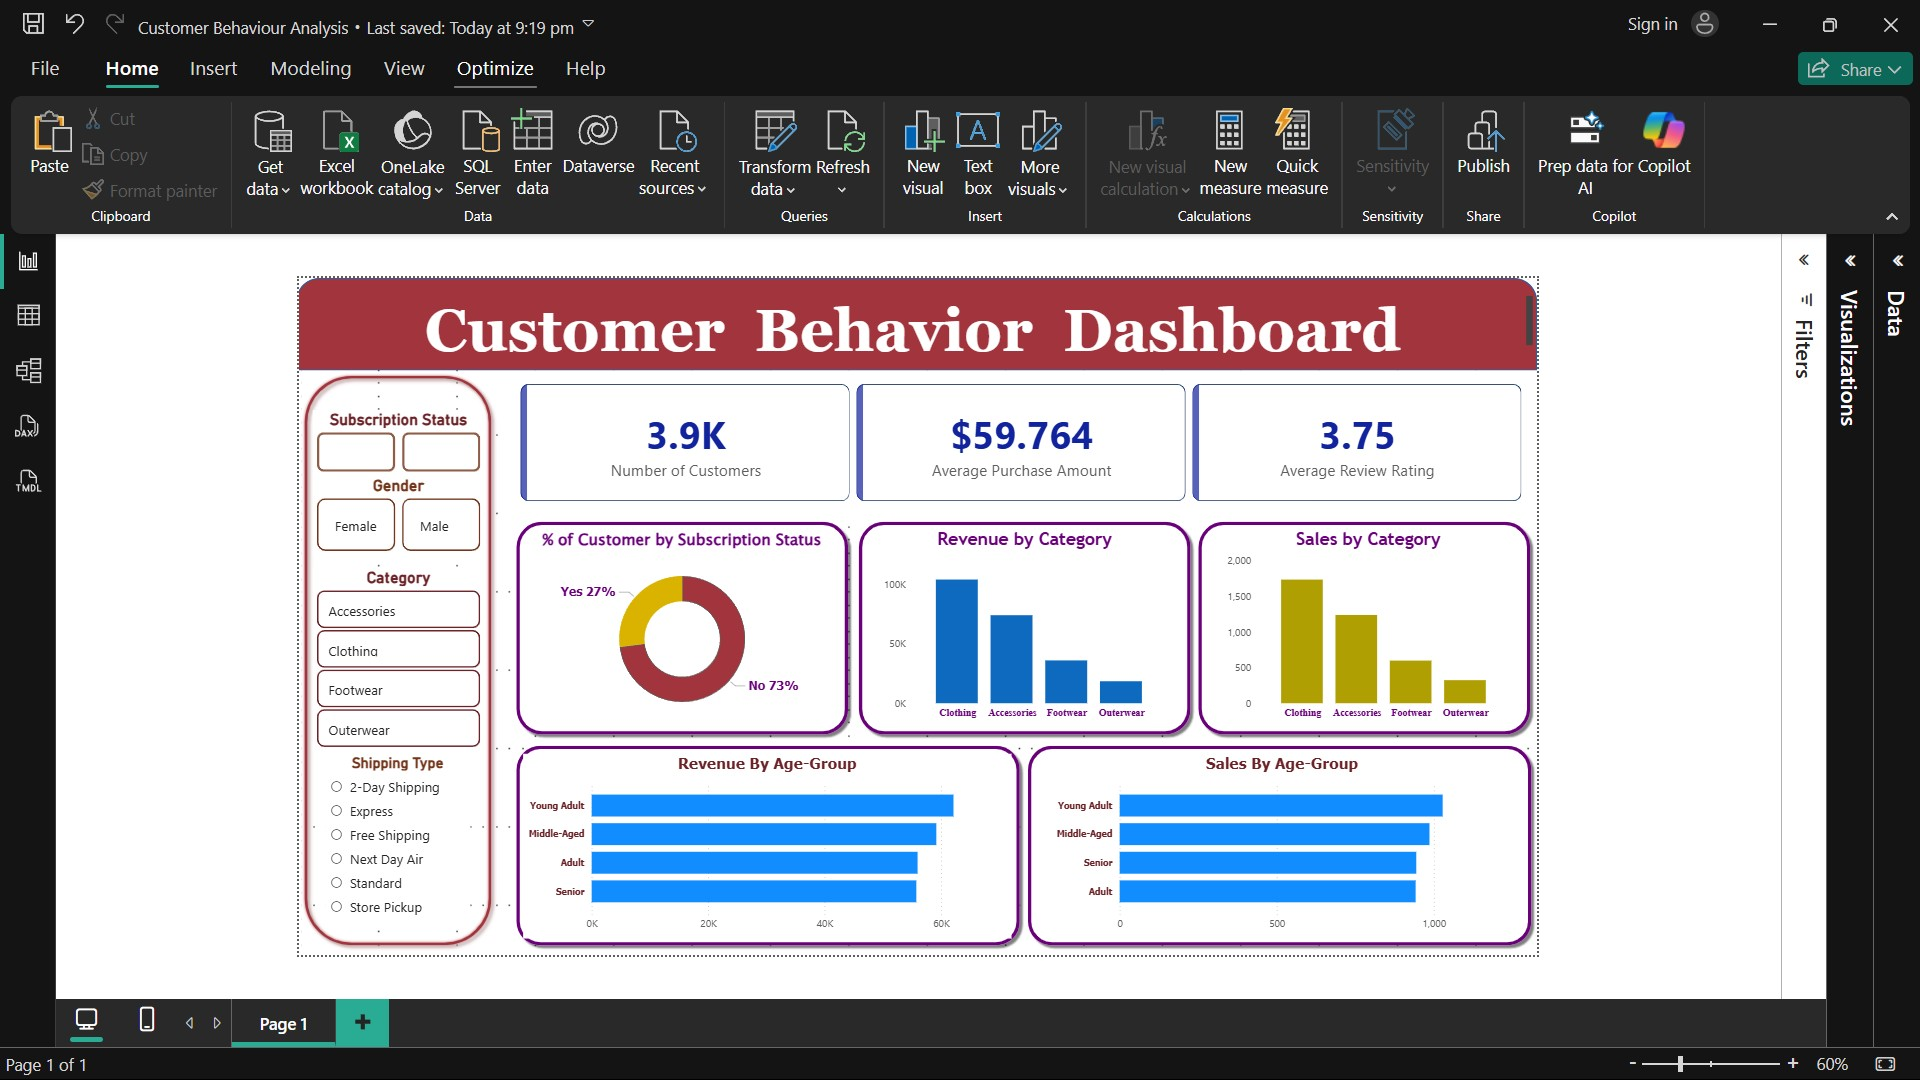

The dashboard page shown, as its layout file describes it:
{"tool":"powerbi","page":{"name":"Page 1","canvas":[1500,820],"ordinal":0},"visuals":[{"type":"cardVisual","fields":{"Data":["public customer.Number of Customers","public customer.Average Purchase Amount","public customer.Average Review Rating"]},"box":[252,112,1248,176],"z":0},{"type":"shape","box":[-4,0,1504,112],"z":1000},{"type":"textbox","box":[-4,16,1504,80],"z":2000},{"type":"shape","box":[256,288,416,272],"z":3000},{"type":"donutChart","title":"% of Customer by Subscription Status","fields":{"Category":["public customer.subscription_status"],"Y":["CountNonNull(public customer.customer_id)"]},"box":[288,304,352,240],"z":4000},{"type":"shape","box":[1084,288,416,272],"z":5000},{"type":"shape","box":[672,288,416,272],"z":6000},{"type":"clusteredColumnChart","title":"Revenue by Category","fields":{"Y":["Sum(public customer.purchase_amount)"],"Category":["public customer.category"]},"box":[704,304,352,240],"z":7000},{"type":"clusteredColumnChart","title":"Sales by Category","fields":{"Y":["CountNonNull(public customer.customer_id)"],"Category":["public customer.category"]},"box":[1120,304,352,240],"z":8000},{"type":"shape","box":[0,112,240,704],"z":9000},{"type":"advancedSlicerVisual","title":"Subscription Status","fields":{"Values":["public customer.subscription_status"]},"box":[16,160,208,80],"z":10000},{"type":"advancedSlicerVisual","title":"Gender","fields":{"Values":["public customer.gender"]},"box":[16,240,208,96],"z":11000},{"type":"advancedSlicerVisual","title":"Category","fields":{"Values":["public customer.category"]},"box":[16,352,208,224],"z":12000},{"type":"listSlicer","title":"Shipping Type","fields":{"Values":["public customer.shipping_type"]},"box":[32,576,176,208],"z":13000},{"type":"clusteredBarChart","title":"Sales By Age-Group","fields":{"Y":["CountNonNull(public customer.customer_id)"],"Category":["public customer.age_group"]},"box":[912,576,560,224],"z":14000},{"type":"shape","box":[256,560,624,256],"z":15000},{"type":"shape","box":[876,560,624,256],"z":16000},{"type":"clusteredBarChart","title":"Revenue By Age-Group","fields":{"Y":["Sum(public customer.purchase_amount)"],"Category":["public customer.age_group"]},"box":[272,576,592,224],"z":17000},{"type":"clusteredBarChart","title":"Sales By Age-Group","fields":{"Y":["CountNonNull(public customer.customer_id)"],"Category":["public customer.age_group"]},"box":[912,576,560,224],"z":17001}]}

Visuals, with their boxes on the page's 1500x820 design canvas (x1, y1, x2, y2). These are canvas units, not pixel positions in the 1920x1080 screenshot, which may show the page scaled, cropped or inside an application window:
cardVisual - public customer.Number of Customers x public customer.Average Purchase Amount: bbox=[252, 112, 1500, 288]
shape: bbox=[-4, 0, 1500, 112]
textbox: bbox=[-4, 16, 1500, 96]
shape: bbox=[256, 288, 672, 560]
"% of Customer by Subscription Status" donutChart: bbox=[288, 304, 640, 544]
shape: bbox=[1084, 288, 1500, 560]
shape: bbox=[672, 288, 1088, 560]
"Revenue by Category" clusteredColumnChart: bbox=[704, 304, 1056, 544]
"Sales by Category" clusteredColumnChart: bbox=[1120, 304, 1472, 544]
shape: bbox=[0, 112, 240, 816]
"Subscription Status" advancedSlicerVisual: bbox=[16, 160, 224, 240]
"Gender" advancedSlicerVisual: bbox=[16, 240, 224, 336]
"Category" advancedSlicerVisual: bbox=[16, 352, 224, 576]
"Shipping Type" listSlicer: bbox=[32, 576, 208, 784]
"Sales By Age-Group" clusteredBarChart: bbox=[912, 576, 1472, 800]
shape: bbox=[256, 560, 880, 816]
shape: bbox=[876, 560, 1500, 816]
"Revenue By Age-Group" clusteredBarChart: bbox=[272, 576, 864, 800]
"Sales By Age-Group" clusteredBarChart: bbox=[912, 576, 1472, 800]
